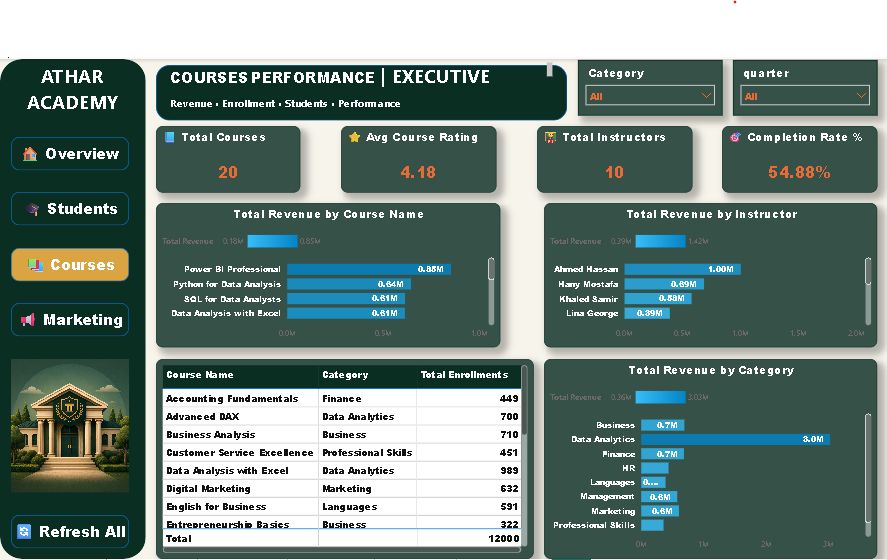

What the dashboard file says about the page in this screenshot:
{"tool":"powerbi","page":{"name":"Courses","canvas":[1280,720],"ordinal":3},"visuals":[{"type":"shape","box":[0,0,210,720],"z":0,"group":"g3"},{"type":"shape","box":[224,8,592,80],"z":0,"group":"g2"},{"type":"textbox","box":[0,0,208,96],"z":1000,"group":"g3"},{"type":"textbox","box":[240,0,560,48],"z":1000,"group":"g2"},{"type":"textbox","box":[240,48,352,32],"z":2000,"group":"g2"},{"type":"textbox","box":[0,80,192,32],"z":2000},{"type":"shape","box":[16,112,170,48],"z":3000,"group":"g3"},{"type":"shape","box":[16,192,170,48],"z":4000,"group":"g3"},{"type":"shape","box":[16,272,170,48],"z":5000,"group":"g3"},{"type":"shape","box":[16,352,170,48],"z":6000,"group":"g3"},{"type":"image","box":[16,432,170,192],"z":7000,"group":"g3"},{"type":"shape","box":[16,656,170,48],"z":12000,"group":"g3"},{"type":"group","id":"g1","title":"Group 1","box":[224,0,592,88],"z":13000},{"type":"cardVisual","title":"📘 Total Courses","fields":{"Data":["Calender.Total Courses"]},"box":[224,96,208,96],"z":14000},{"type":"cardVisual","title":"⭐ Avg Course Rating","fields":{"Data":["Calender.Avg_Course_Rating"]},"box":[490.7,96,224,96],"z":15000},{"type":"group","id":"g2","title":"Group 2","box":[224,0,592,88],"z":15003,"group":"g1"},{"type":"cardVisual","title":"👨🏫 Total Instructors","fields":{"Data":["Calender.Total Instructors"]},"box":[773.3,96,224,96],"z":16000},{"type":"cardVisual","title":"🎯 Completion Rate %","fields":{"Data":["Calender.Completion Rate"]},"box":[1040,96,224,96],"z":17000},{"type":"slicer","fields":{"Values":["Courses.Category"]},"box":[832.7,1.3,208,80],"z":18000},{"type":"slicer","fields":{"Values":["Calender.quarter"]},"box":[1056,1.3,208,80],"z":19000},{"type":"clusteredBarChart","fields":{"Category":["Courses.Course Name"],"Y":["Calender.Total Revenue"]},"box":[224,208,496,208],"z":20000},{"type":"barChart","fields":{"Category":["Courses.Instructor"],"Y":["Calender.Total Revenue"]},"box":[784,208,480,208],"z":21000},{"type":"tableEx","fields":{"Values":["Courses.Course Name","Courses.Category","Calender.Total Enrollments"]},"box":[224,432,544,288],"z":22000},{"type":"clusteredBarChart","fields":{"Category":["Courses.Category"],"Y":["Calender.Total Revenue"]},"box":[784,432,480,288],"z":23000},{"type":"group","id":"g3","title":"Group 3","box":[0,0,210,720],"z":23001}]}

Visuals, with their boxes on the page's 1280x720 design canvas (x1, y1, x2, y2). These are canvas units, not pixel positions in the 887x560 screenshot, which may show the page scaled, cropped or inside an application window:
shape: bbox(0, 0, 210, 720)
shape: bbox(224, 8, 816, 88)
textbox: bbox(0, 0, 208, 96)
textbox: bbox(240, 0, 800, 48)
textbox: bbox(240, 48, 592, 80)
textbox: bbox(0, 80, 192, 112)
shape: bbox(16, 112, 186, 160)
shape: bbox(16, 192, 186, 240)
shape: bbox(16, 272, 186, 320)
shape: bbox(16, 352, 186, 400)
image: bbox(16, 432, 186, 624)
shape: bbox(16, 656, 186, 704)
"Group 1" group: bbox(224, 0, 816, 88)
"📘 Total Courses" cardVisual: bbox(224, 96, 432, 192)
"⭐ Avg Course Rating" cardVisual: bbox(491, 96, 715, 192)
"Group 2" group: bbox(224, 0, 816, 88)
"👨🏫 Total Instructors" cardVisual: bbox(773, 96, 997, 192)
"🎯 Completion Rate %" cardVisual: bbox(1040, 96, 1264, 192)
slicer - Courses.Category: bbox(833, 1, 1041, 81)
slicer - Calender.quarter: bbox(1056, 1, 1264, 81)
clusteredBarChart - Courses.Course Name x Calender.Total Revenue: bbox(224, 208, 720, 416)
barChart - Courses.Instructor x Calender.Total Revenue: bbox(784, 208, 1264, 416)
tableEx - Courses.Course Name x Courses.Category: bbox(224, 432, 768, 720)
clusteredBarChart - Courses.Category x Calender.Total Revenue: bbox(784, 432, 1264, 720)
"Group 3" group: bbox(0, 0, 210, 720)
